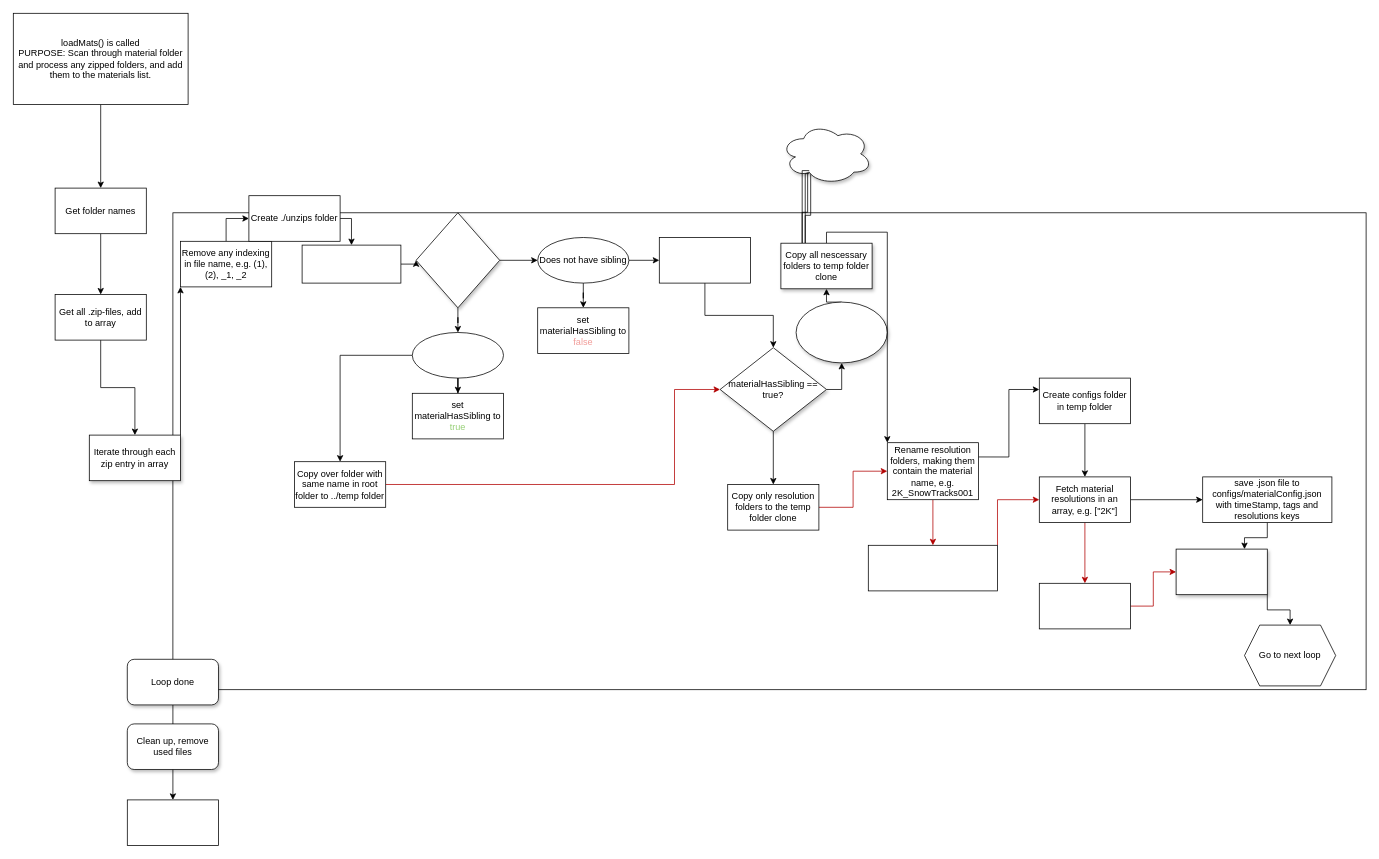
Some shapes in this 1379 by 859 pixel diagram are drawn without their labels. The centre of each missing label's shape, as x and y in pixels:
"Copy folder out to root" belongs at point (1222, 572).
"Create folder with same name in ../temp" belongs at point (704, 260).
"Determine if unzipped folder has a sibling in the root folder" belongs at point (458, 261).
"false" belongs at point (842, 333).
"fetch configs/materialConfig.json file in the temp location folder" belongs at point (933, 568).
"Has sibling" belongs at point (458, 355).
"merge new resolutions with resolutions in the existing config file" belongs at point (1084, 606).
"Resolution folders, preview folders" belongs at point (827, 155).
"Resolve promise" belongs at point (172, 822).
"Unzip folder into ./unzips" belongs at point (351, 263).
